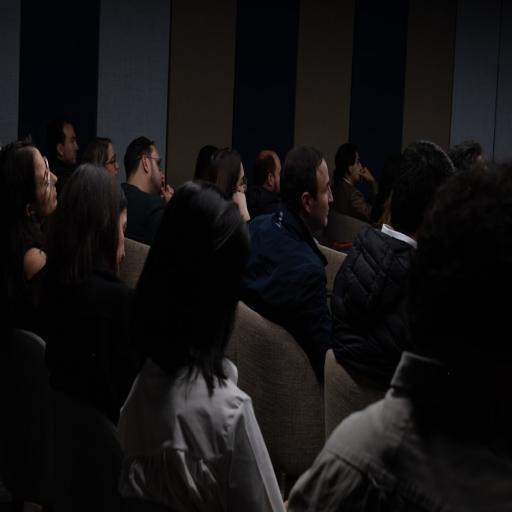face: (30, 148, 56, 221), (309, 160, 332, 232), (147, 146, 164, 194), (59, 124, 78, 164), (105, 143, 119, 179), (349, 152, 362, 184)
